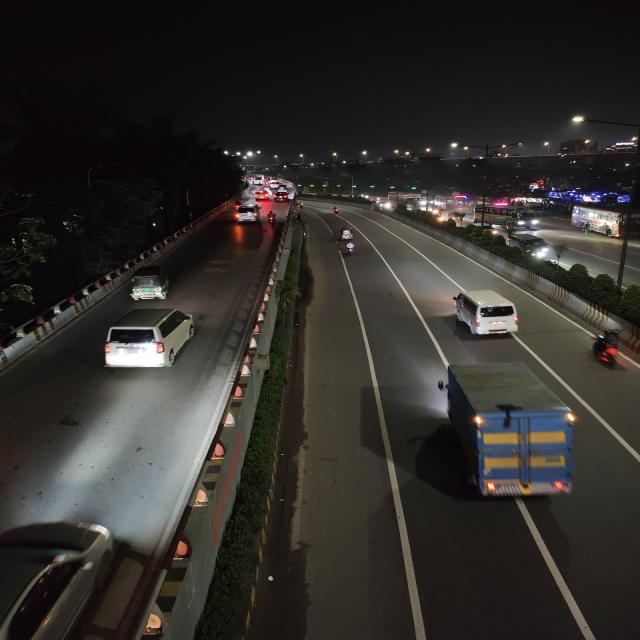bus: (567, 203, 640, 244), (477, 203, 541, 230), (446, 198, 480, 215)
car: (0, 506, 133, 639), (95, 304, 205, 376), (440, 276, 532, 352), (505, 230, 553, 260), (234, 204, 261, 224), (273, 191, 289, 203), (254, 191, 271, 200), (251, 176, 264, 185), (268, 182, 280, 188)
cng: (128, 265, 175, 302), (338, 224, 356, 242), (276, 184, 289, 192)
motorcycle: (587, 326, 622, 369), (266, 209, 279, 226), (331, 205, 343, 218), (345, 241, 356, 254), (297, 200, 307, 211)
truck: (433, 358, 587, 512)
